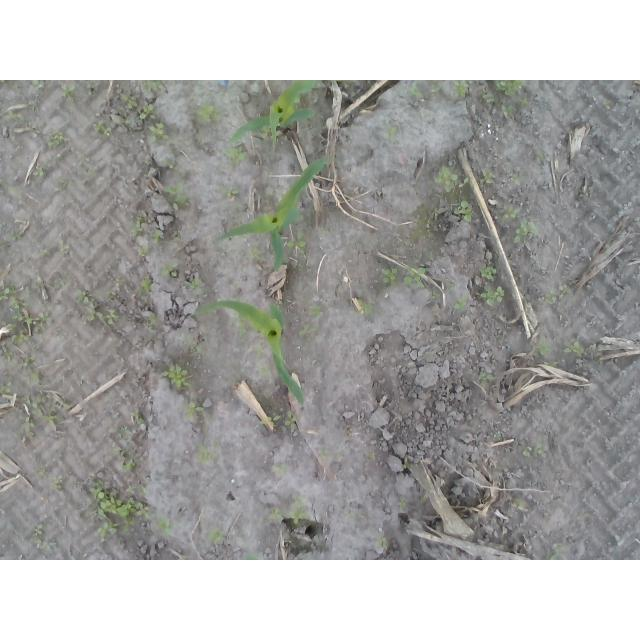Maize: (195, 299, 307, 410), (219, 155, 326, 269), (229, 80, 316, 142)
Weeds: (90, 480, 153, 541), (24, 388, 76, 432), (479, 80, 529, 114), (500, 205, 542, 244), (477, 265, 506, 305), (383, 264, 430, 288), (432, 166, 469, 195), (160, 363, 193, 390), (0, 283, 32, 309), (8, 310, 33, 343), (195, 104, 226, 127), (429, 80, 467, 98), (165, 183, 190, 210), (286, 495, 307, 525), (146, 122, 174, 144), (79, 288, 98, 320), (114, 447, 136, 474), (451, 201, 473, 224), (560, 337, 584, 358), (522, 439, 547, 458), (287, 231, 305, 257), (531, 335, 551, 358), (182, 402, 204, 422), (192, 446, 216, 464), (223, 147, 250, 162), (158, 517, 178, 536), (297, 323, 322, 338), (137, 104, 160, 120), (129, 215, 145, 237), (271, 461, 290, 479), (47, 131, 65, 149), (95, 119, 113, 137), (207, 527, 225, 545), (357, 298, 376, 315), (99, 308, 119, 324), (63, 80, 81, 97), (254, 362, 272, 379), (376, 535, 393, 553), (543, 544, 561, 561), (249, 241, 264, 261), (139, 276, 153, 297), (121, 94, 139, 110), (130, 407, 146, 425), (144, 80, 165, 93), (408, 82, 424, 99), (32, 523, 44, 545), (285, 410, 298, 430), (49, 474, 64, 491), (186, 336, 200, 354), (479, 370, 497, 384), (220, 185, 240, 197), (160, 263, 177, 277), (453, 294, 467, 311), (481, 167, 495, 184), (512, 496, 525, 513), (544, 288, 557, 305), (307, 304, 321, 319), (0, 179, 16, 192), (398, 496, 410, 513), (269, 508, 284, 521), (99, 288, 113, 301), (237, 320, 248, 336), (20, 357, 34, 369), (385, 127, 400, 138), (161, 159, 175, 170), (242, 552, 258, 561), (146, 314, 159, 325), (151, 228, 162, 241), (138, 247, 151, 258), (12, 231, 25, 242), (59, 239, 69, 253), (39, 307, 49, 321), (32, 168, 47, 177), (510, 174, 522, 185), (7, 110, 19, 121), (0, 383, 12, 394), (431, 290, 442, 302), (319, 449, 330, 461), (3, 351, 14, 362), (191, 278, 202, 289), (493, 430, 505, 440), (448, 282, 457, 295), (32, 372, 41, 384), (268, 416, 280, 425), (32, 80, 45, 88), (254, 343, 264, 353), (115, 278, 126, 287), (55, 280, 65, 289), (420, 494, 429, 504), (39, 249, 49, 257), (39, 468, 48, 476), (319, 225, 326, 235), (537, 152, 544, 161), (116, 538, 124, 545)
